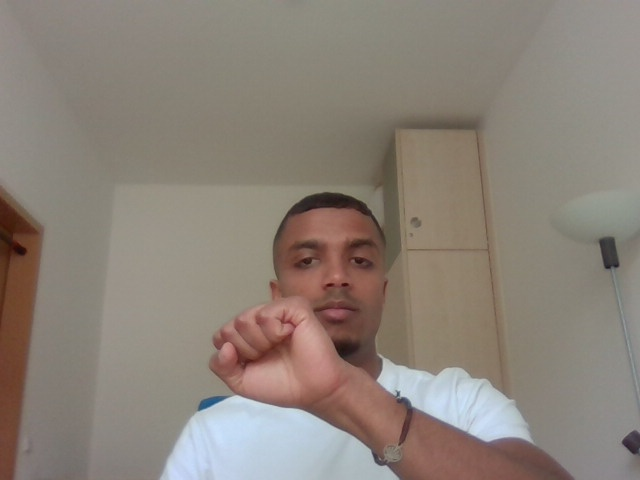maybe: (188, 295, 371, 420)
